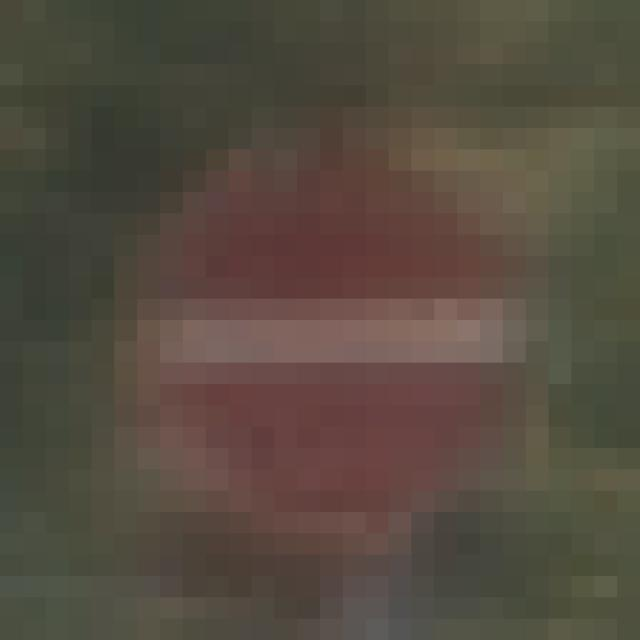No Entry: (115, 108, 527, 534)
